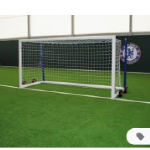goals: (18, 34, 123, 101)
